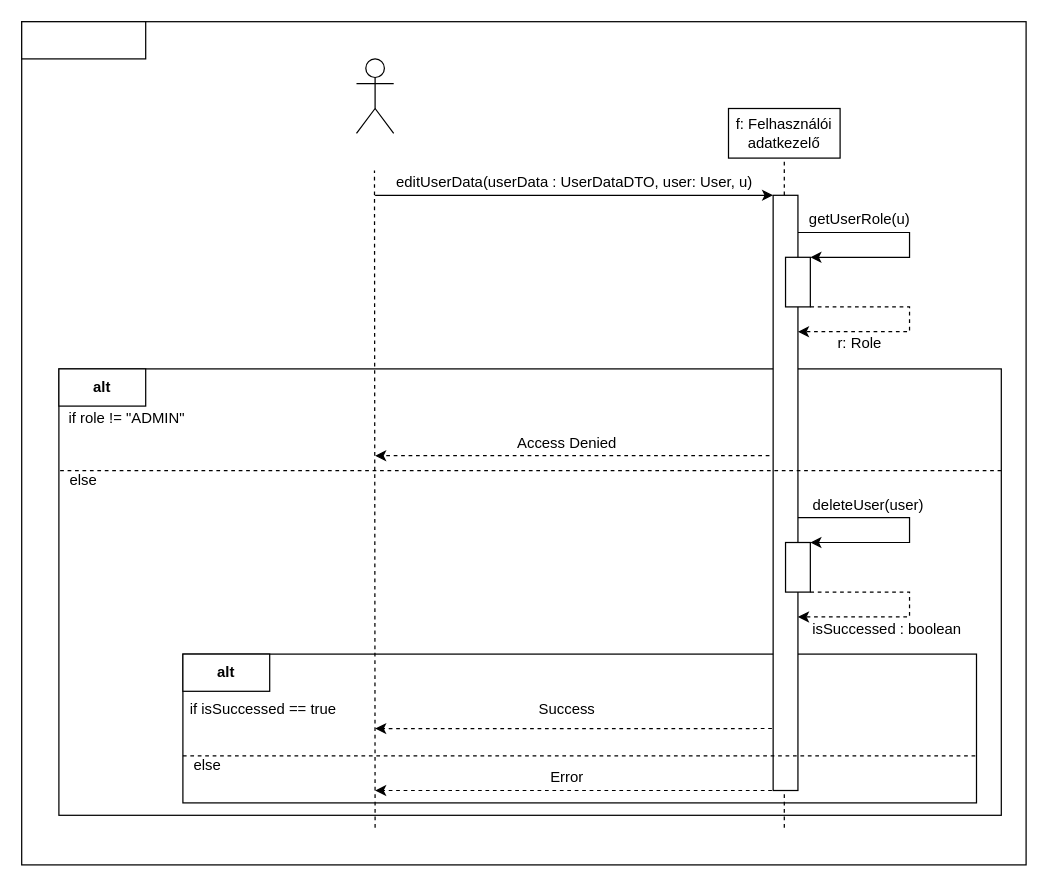
Image size: 1048x887. Some labels were removed from this diagram. Here are the shapes that lost their labels. From the top down, the box of each, then its label:
(20, 20, 146, 59): deleteUser
(355, 58, 394, 133): u: User
